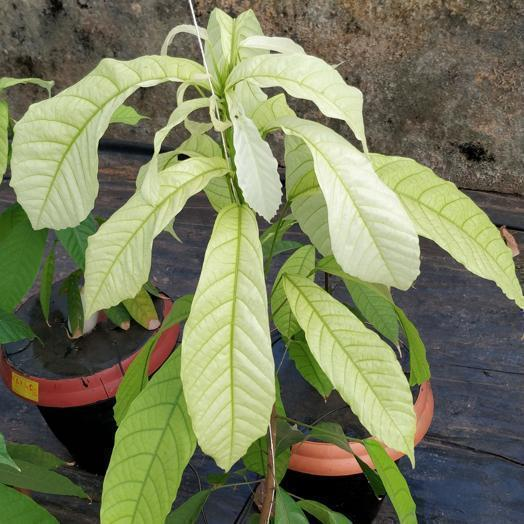Healthy Leaf: (0, 204, 46, 311), (0, 461, 87, 497), (0, 484, 57, 523), (8, 442, 64, 468)
Iron: (11, 56, 202, 228), (181, 204, 275, 470), (284, 276, 415, 460), (279, 117, 419, 289), (371, 154, 523, 306), (85, 157, 225, 315), (101, 350, 195, 523), (226, 54, 366, 152), (114, 295, 192, 425), (143, 98, 208, 202), (233, 109, 281, 221), (286, 137, 331, 255), (363, 440, 416, 523), (271, 244, 314, 337), (343, 277, 398, 342), (206, 8, 233, 84), (160, 24, 206, 54), (240, 36, 305, 53)
